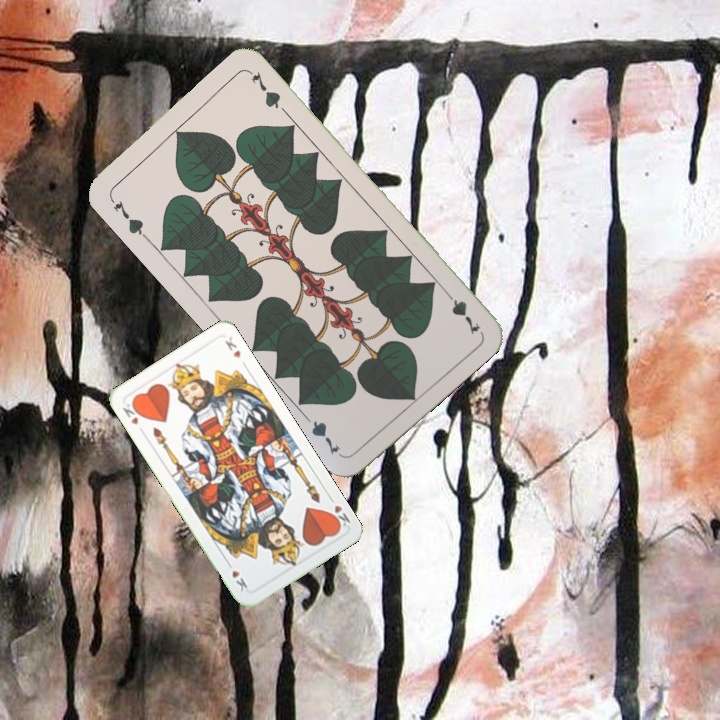G7: (439, 285, 484, 337), (106, 193, 150, 242)
HK: (325, 492, 353, 531), (118, 398, 144, 428)
